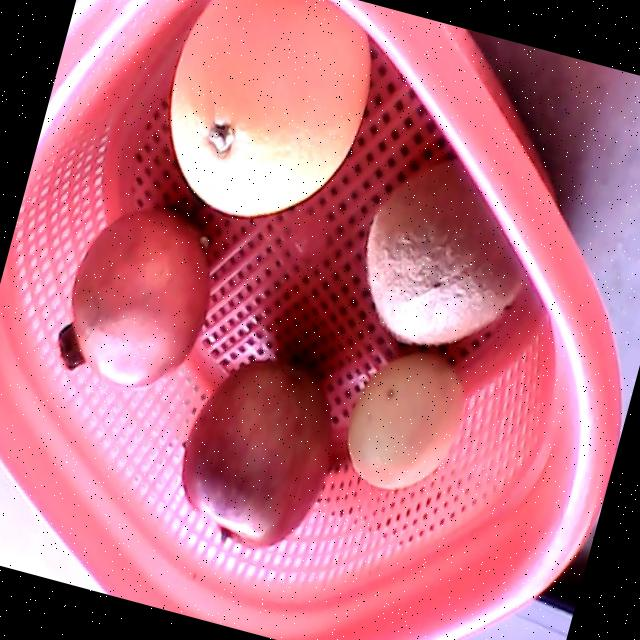apple: (180, 360, 331, 547)
kiwi: (365, 160, 524, 345)
lemon: (347, 352, 464, 488)
orange: (169, 0, 370, 215)
pomegranate: (57, 209, 210, 386)
